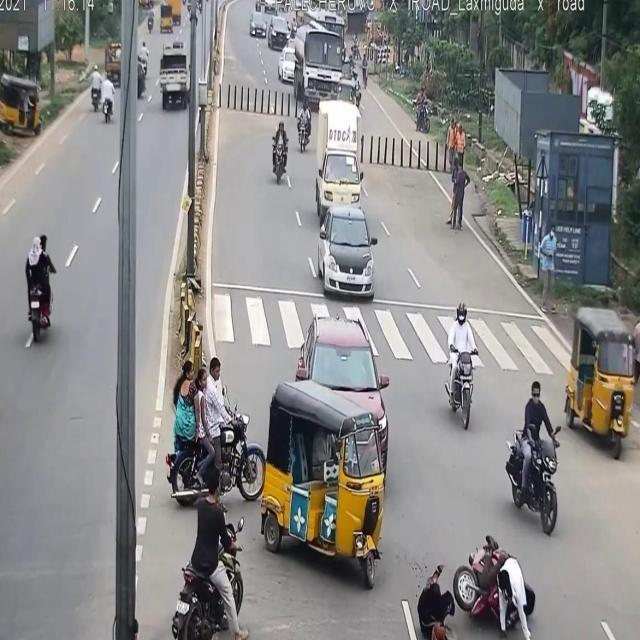accident: (409, 521, 539, 639)
non_accident: (274, 21, 376, 308), (244, 5, 292, 59), (157, 1, 187, 47)
